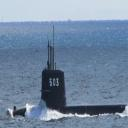submarine: (13, 26, 128, 118)
